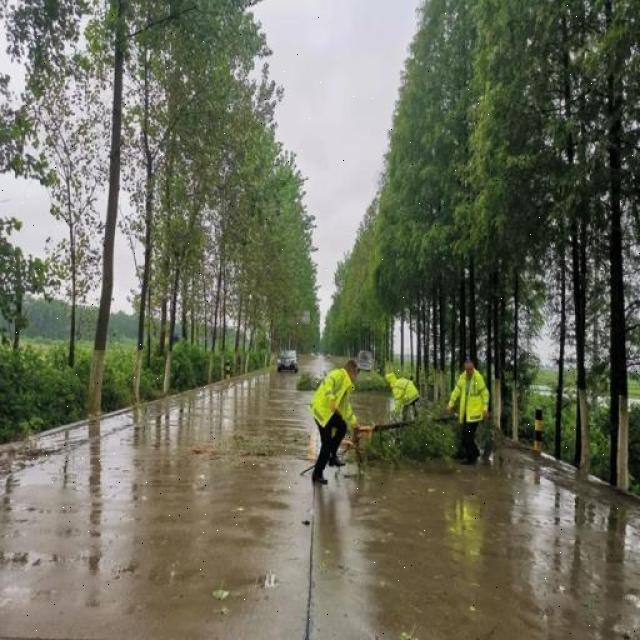rescuer: (287, 352, 379, 500), (442, 349, 504, 465)
